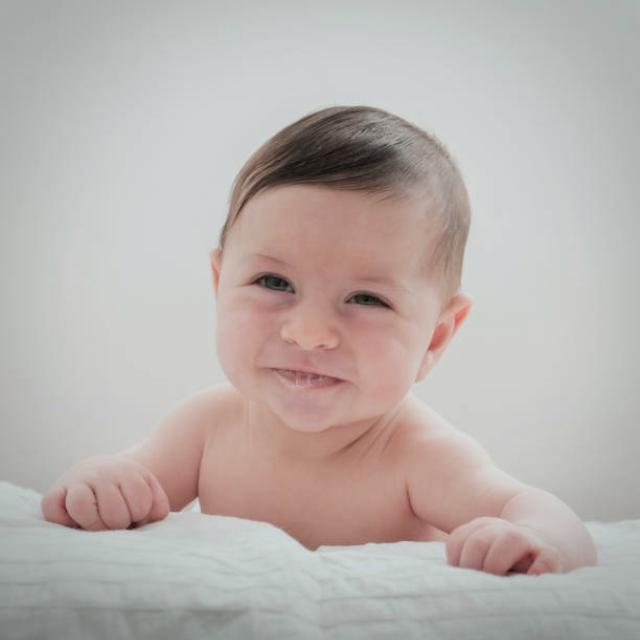Spitting: (174, 105, 468, 496)
